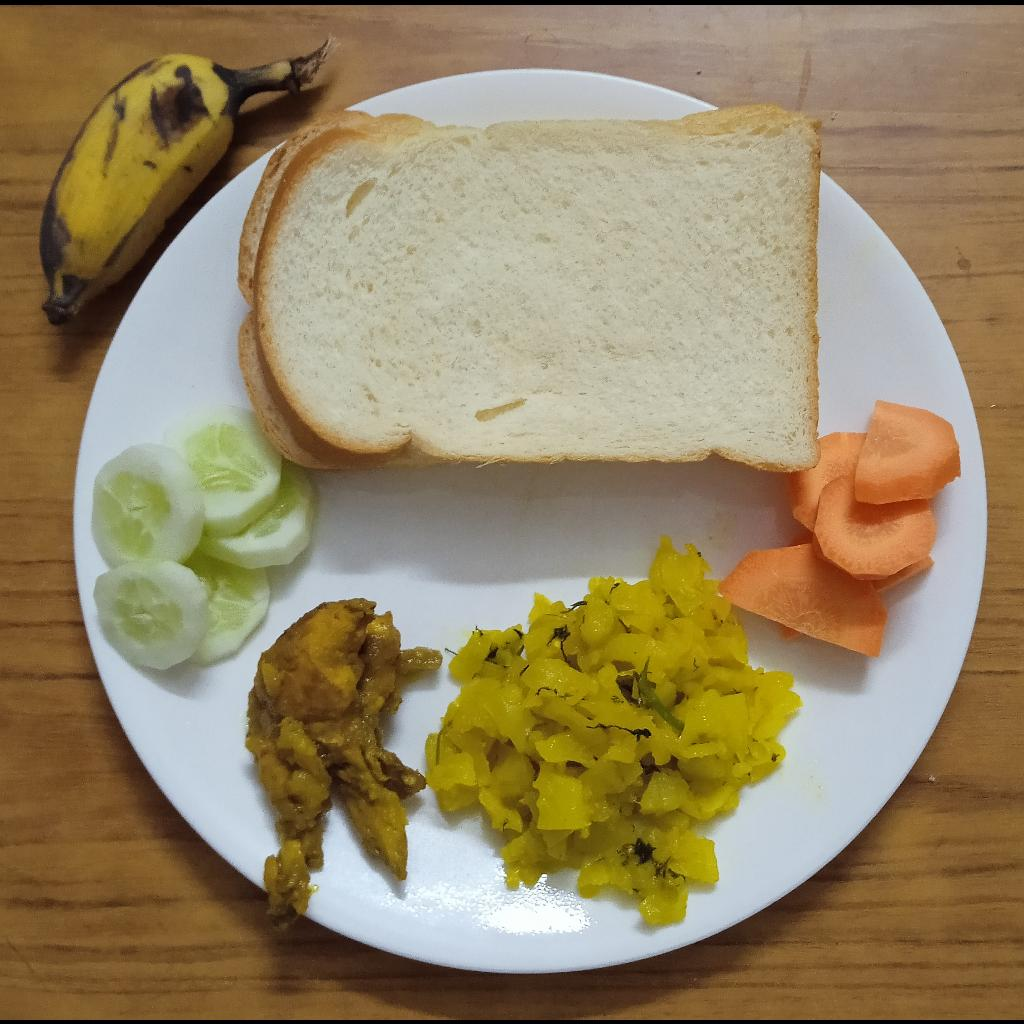banana: (39, 34, 342, 326)
bread: (237, 102, 822, 473)
carrot: (717, 400, 961, 658)
chicken: (243, 596, 444, 933)
cucumber: (90, 401, 319, 669)
lau: (425, 536, 802, 925)
